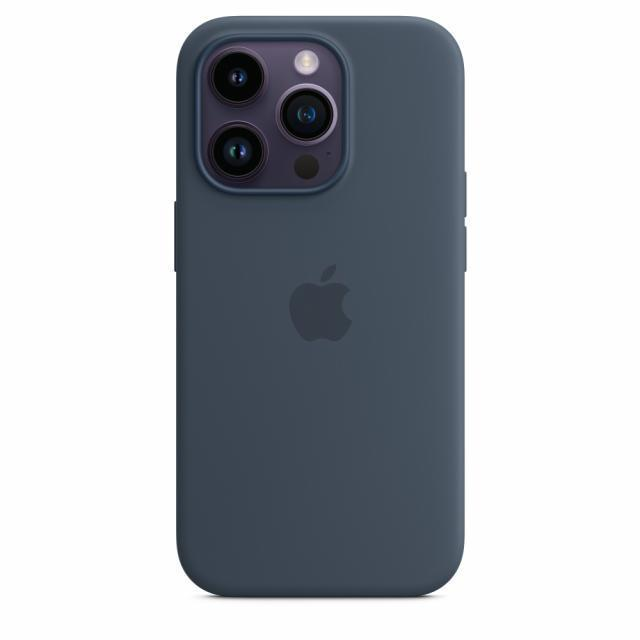phone: (174, 16, 468, 600)
